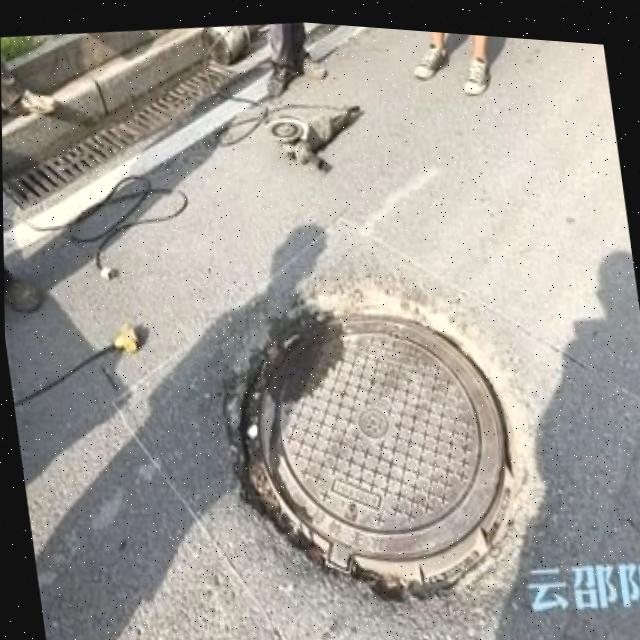manhole: (216, 269, 527, 598)
